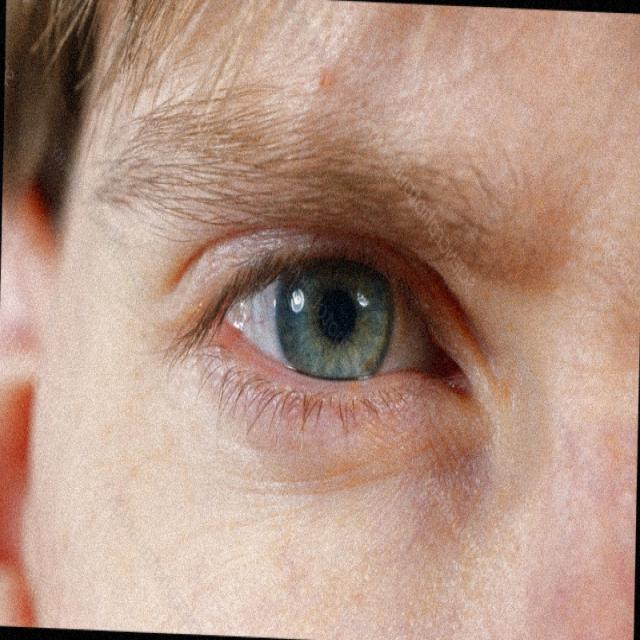Healthy-Eye: (176, 183, 491, 443)
